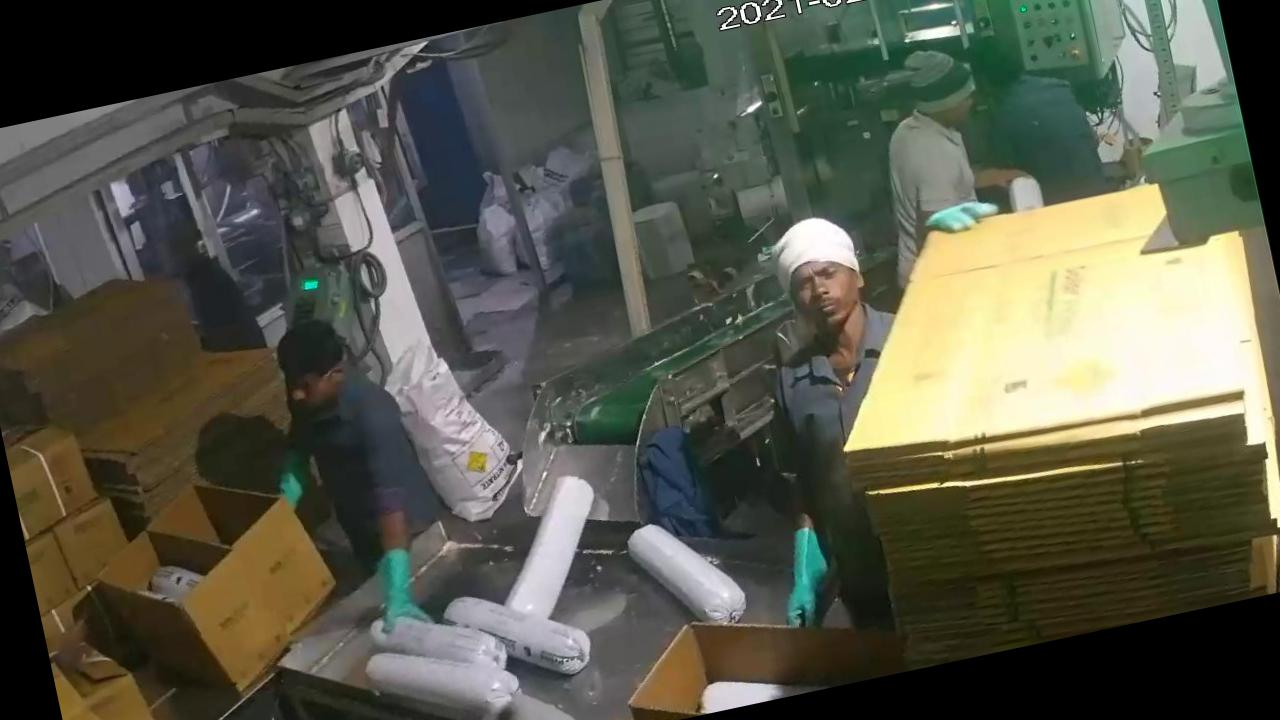Gloves: (758, 514, 856, 644), (356, 540, 449, 644), (249, 439, 329, 531)
